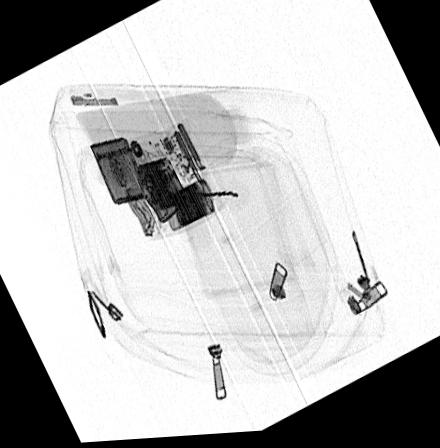Lighter: (90, 136, 147, 205)
